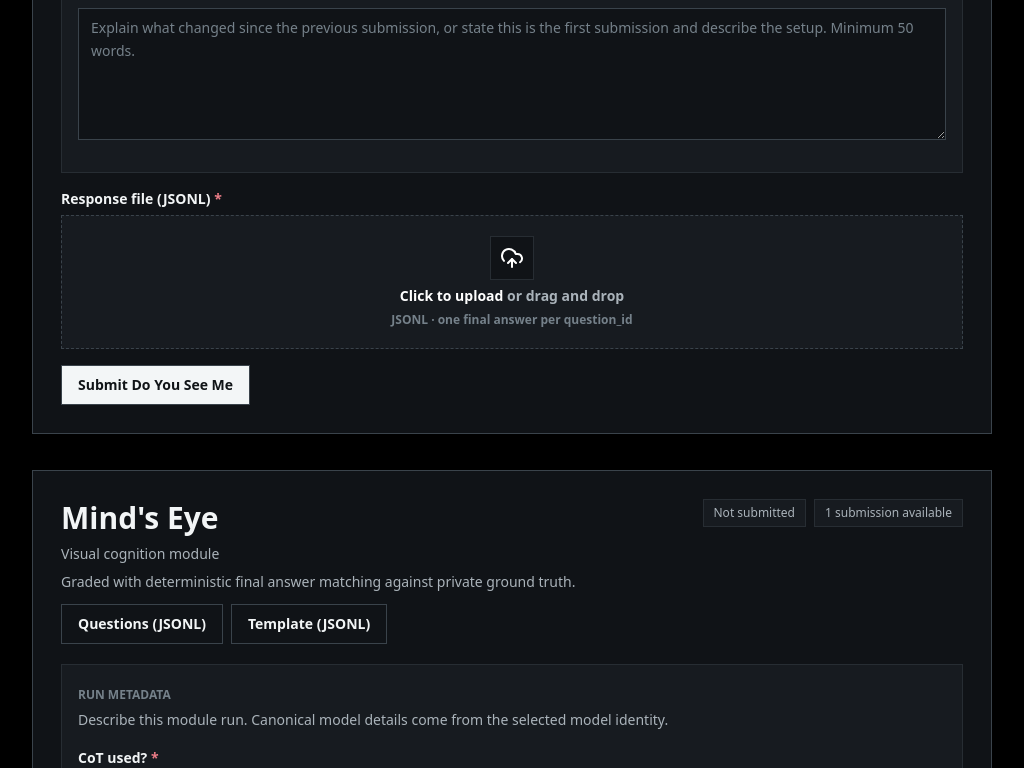
Test: spatial submission contract › opens an error dialog when required submission fields are missing
(page scrolled)
Click the button "Submit Do You See Me": (156, 385) [61,365,250,405]
(page scrolled)
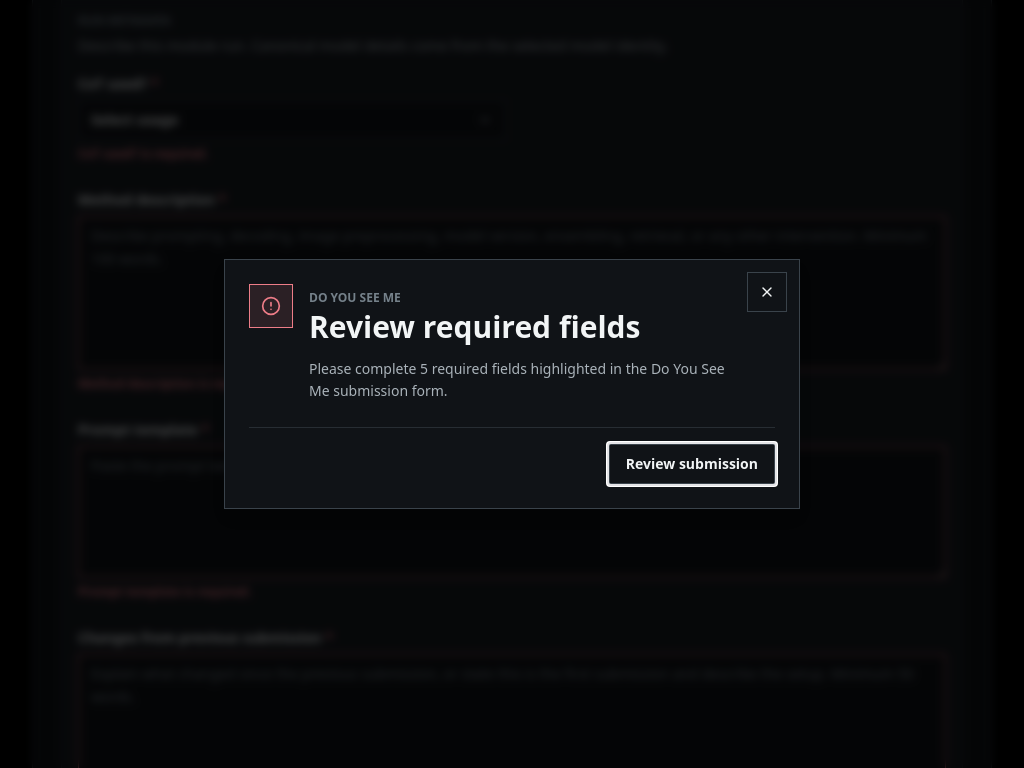
Now the dialog shows "Review required fields", box [309,306,640,347]
Now the dialog shows "Please complete 5 required fields", box [309,358,725,400]
Now the text "Method description is required." is shown, box [78,375,266,392]
